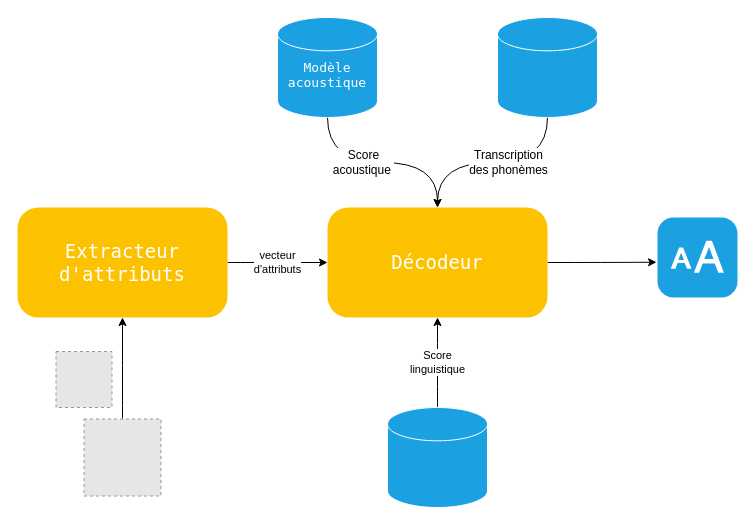
The diagram is 754 pixels wide and 525 high, and some of its shapes have lost their labels. Grey dashed boxes stand in for pictures. The centre of each missing label's shape, as x and y in pixels:
"Base lecicale" goes at point (547, 67).
"Modèle de langue" goes at point (437, 457).
